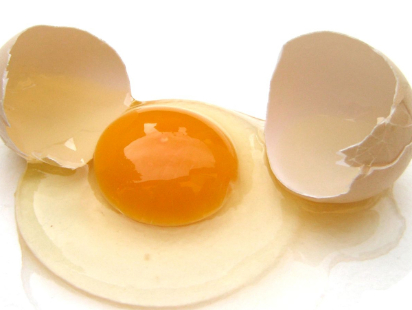egg: (14, 56, 412, 303)
